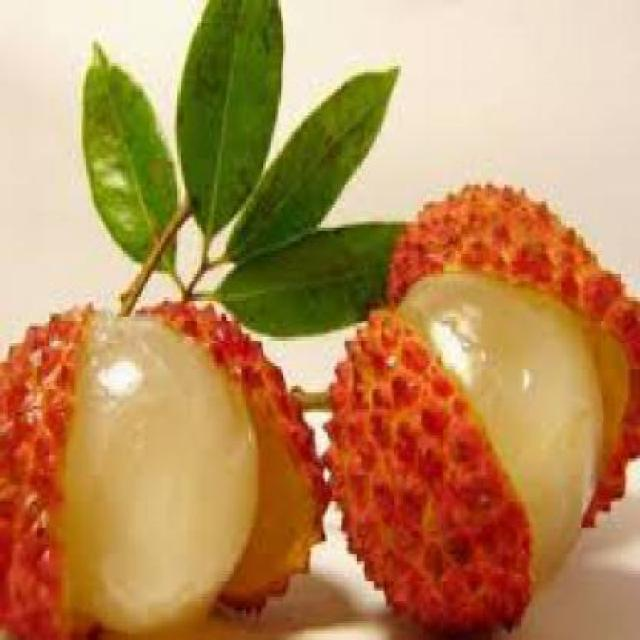BIODEGRADABLE: (391, 179, 638, 526), (327, 304, 539, 636), (406, 264, 608, 590), (69, 314, 263, 637), (136, 294, 330, 614), (224, 63, 401, 260), (2, 301, 104, 636), (180, 1, 286, 241), (219, 218, 413, 333), (84, 39, 179, 267)
